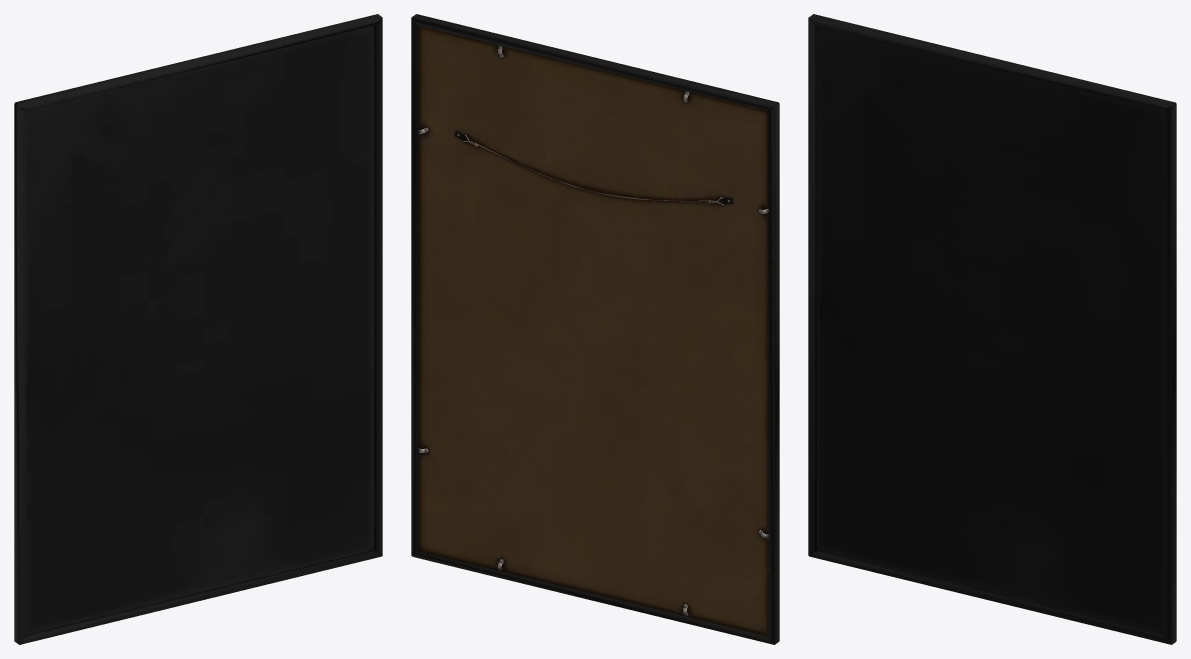
The model's file is hanging_picture_frame_01.glb.
3 renders of one model, left to right at view 1: azimuth 30°, elevation 25°; view 2: azimuth 150°, elevation 25°; view 3: azimuth 330°, elevation 25°, orthographic.
Visible parts, largest first — view 1: hanging_picture_frame_01; view 2: hanging_picture_frame_01; view 3: hanging_picture_frame_01.
Boxes of the visible parts, bbox=[...] form: hanging_picture_frame_01: bbox=[14, 14, 382, 644]; hanging_picture_frame_01: bbox=[411, 14, 779, 644]; hanging_picture_frame_01: bbox=[808, 14, 1176, 644].
Size of the model in its own units: 0.5939 by 0.841 by 0.0154.
Materials: 3 (3 with a texture image).
